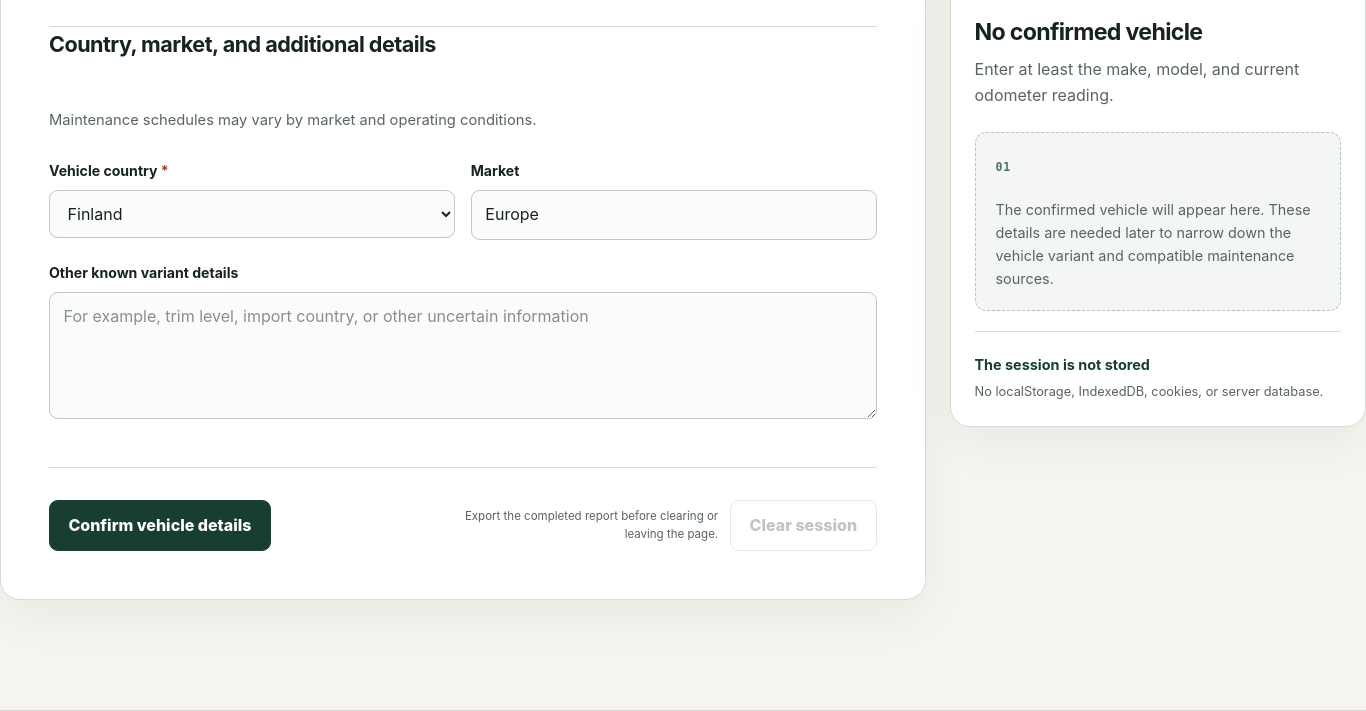
Test: VehicleForm › validates required fields before confirming
(page scrolled)
Click the button "Confirm vehicle details". click: point(160, 526)
box: [49,500,271,551]
(page scrolled)
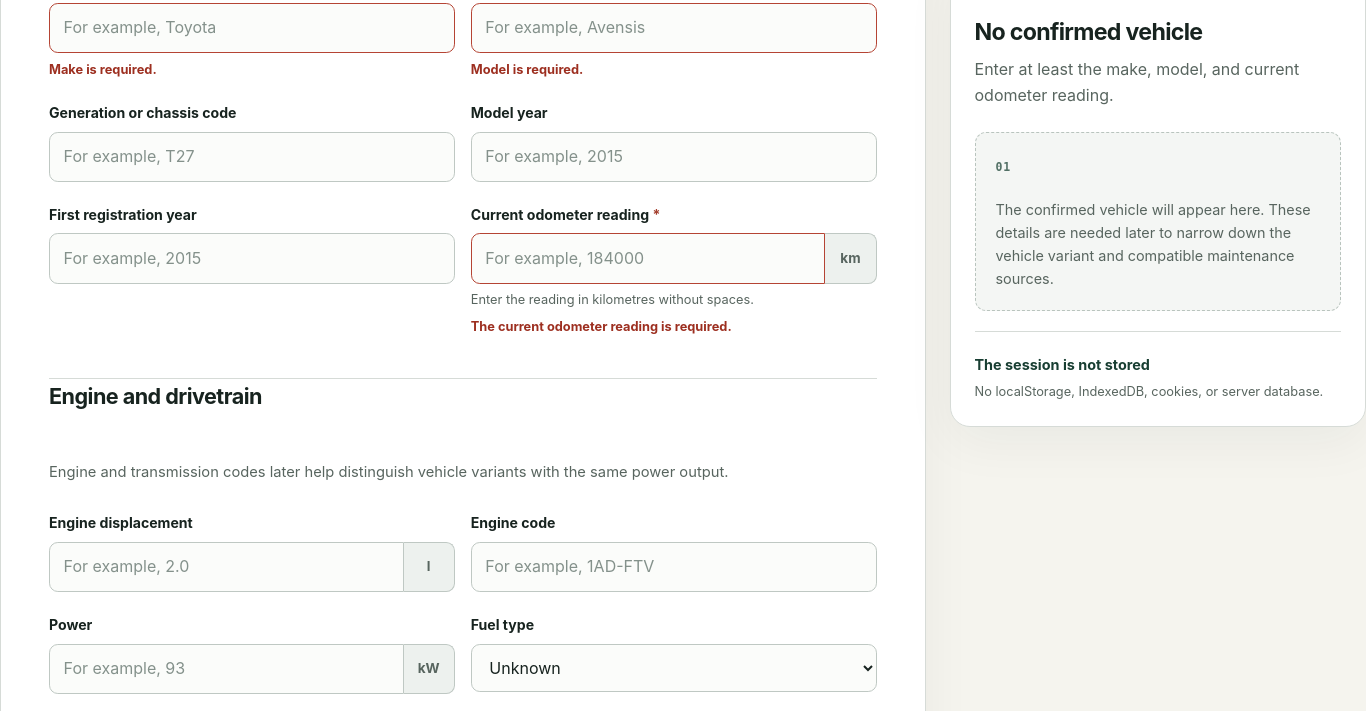
Expected: the text "Make is required." is shown, [49,62,157,77]
Expected: the text "Model is required." is shown, [471,62,583,77]
Expected: the text "The current odometer reading is required." is shown, [471,319,732,334]
